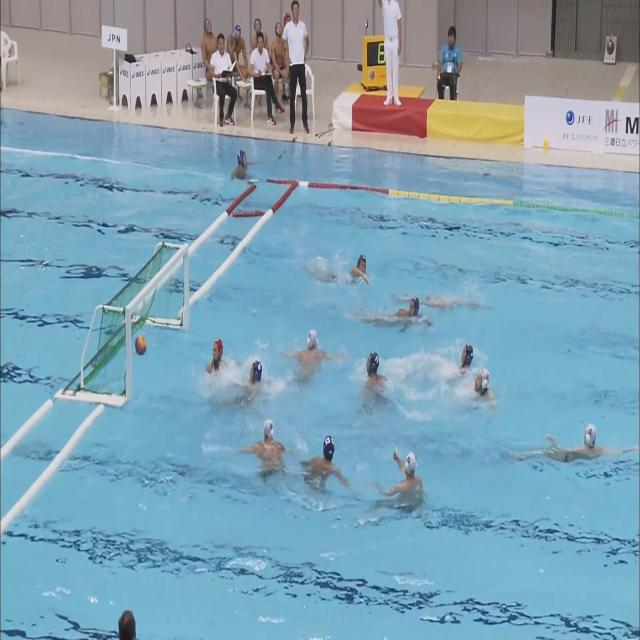ball: (136, 336, 146, 355)
